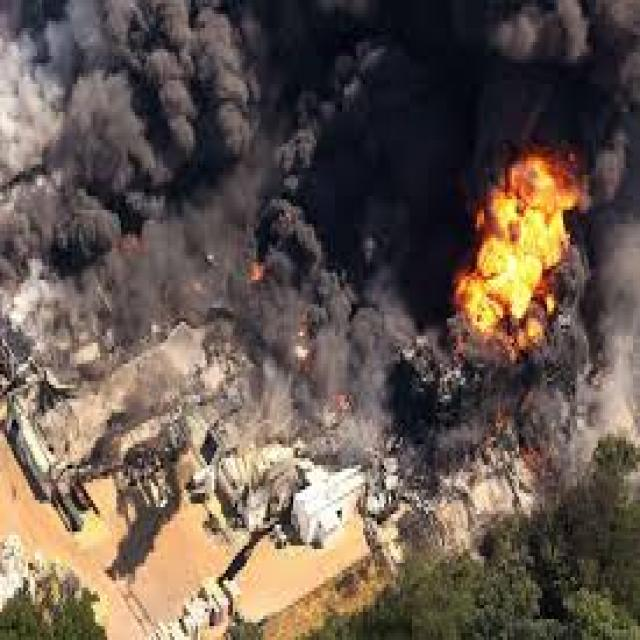fire: (456, 168, 580, 350)
smoke: (2, 3, 640, 476)
